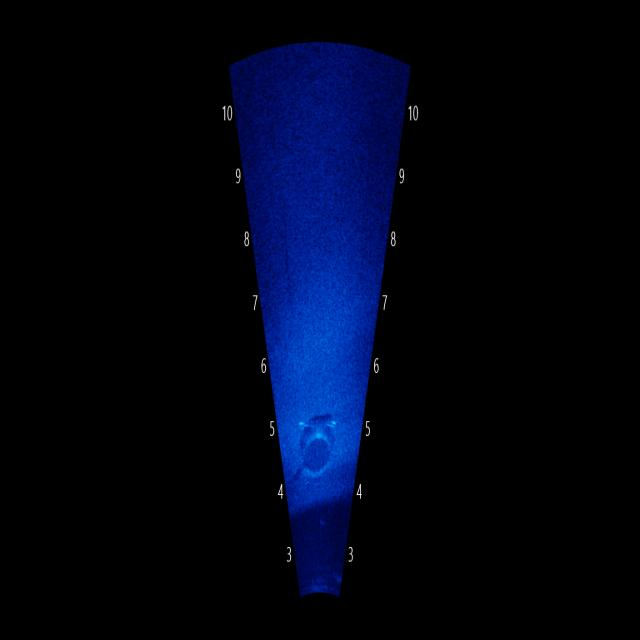circle: (294, 413, 340, 492)
